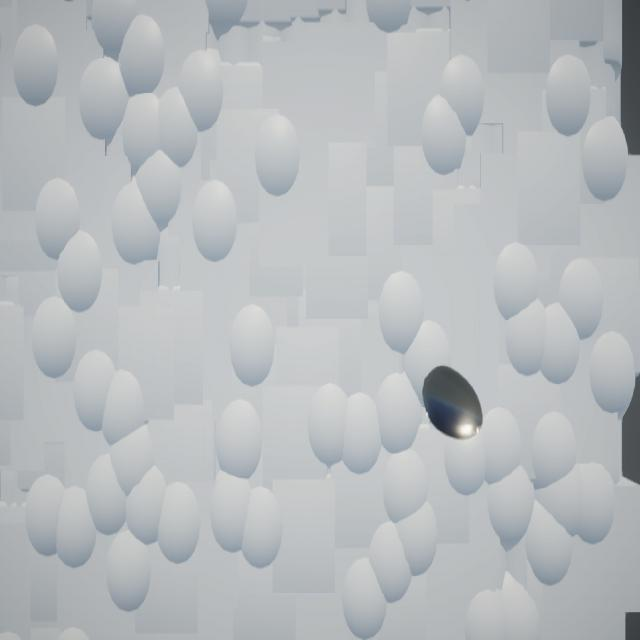top_spoon: (423, 366, 484, 442)
